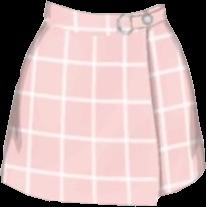Hemline: (1, 19, 166, 206), (158, 169, 205, 198)
Waistline: (46, 0, 162, 14)
